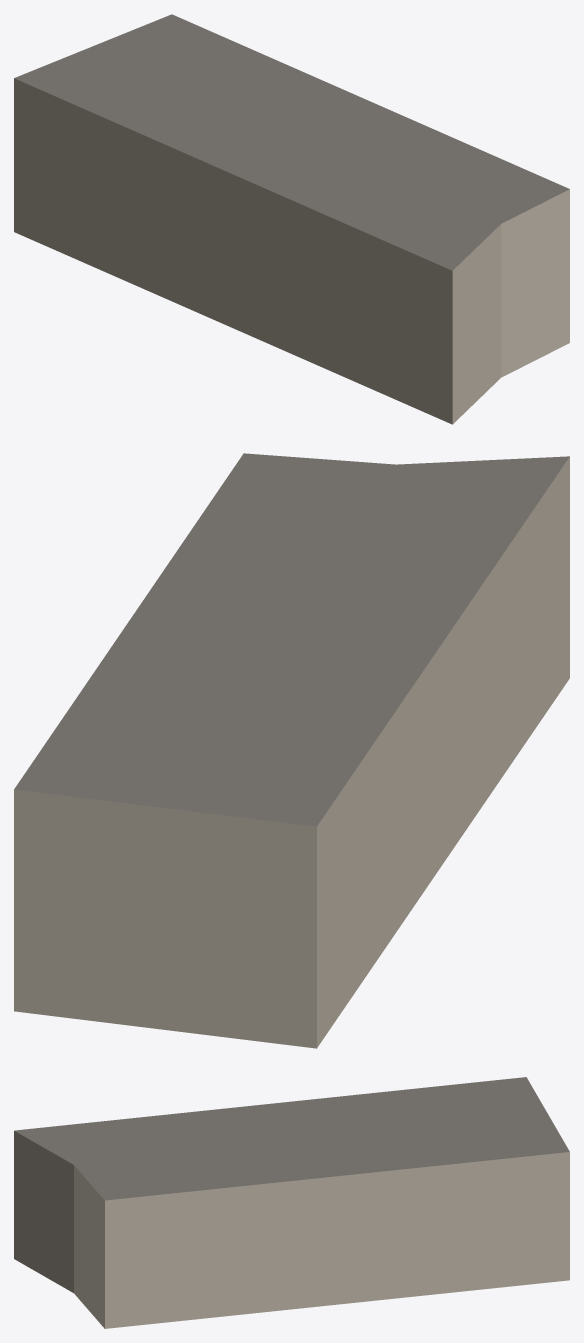
The picture shows the model from 3 angles, top to bottom: view 1: azimuth 30°, elevation 25°; view 2: azimuth 150°, elevation 25°; view 3: azimuth 270°, elevation 25°; orthographic projection. The views are drawn at different scales.
Visible parts, largest first — view 1: HP-w859424160; view 2: HP-w859424160; view 3: HP-w859424160.
Part boxes in pixels (left/top/right/bottom): HP-w859424160: left=14, top=14, right=569, bottom=424; HP-w859424160: left=14, top=453, right=569, bottom=1048; HP-w859424160: left=14, top=1077, right=569, bottom=1328.
Size of the model in its own units: 37.14 by 18 by 70.64.
